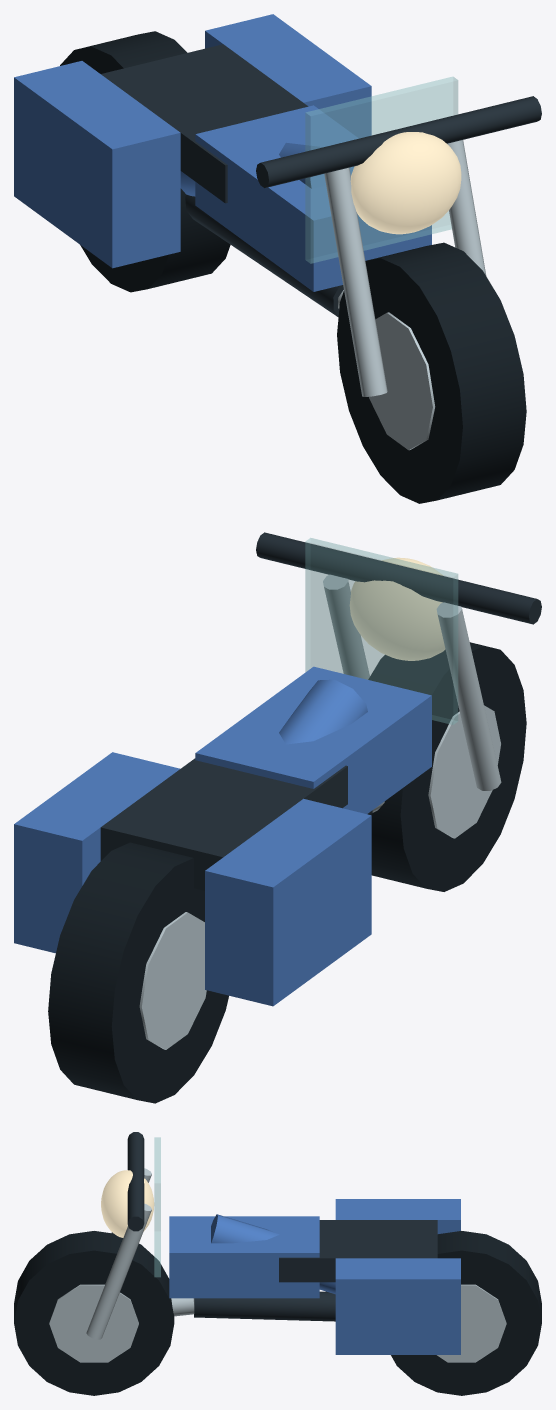
The model's file is touring-bike.glb.
The picture shows the model from 3 angles, top to bottom: view 1: azimuth 30°, elevation 25°; view 2: azimuth 150°, elevation 25°; view 3: azimuth 270°, elevation 25°; orthographic projection. The views are drawn at different scales.
Visible parts, largest first — view 1: touring-bike, wheel.1.spin, wheel.0.spin; view 2: touring-bike, wheel.0.spin, wheel.1.spin; view 3: touring-bike, wheel.1.spin, wheel.0.spin.
Boxes of the visible parts, x1,y1,x2,y2 form: touring-bike: [14, 14, 541, 396]; wheel.1.spin: [337, 242, 526, 503]; wheel.0.spin: [60, 31, 230, 292]; touring-bike: [14, 532, 541, 1006]; wheel.0.spin: [48, 842, 228, 1103]; wheel.1.spin: [368, 642, 526, 891]; touring-bike: [86, 1132, 460, 1354]; wheel.1.spin: [14, 1231, 174, 1395]; wheel.0.spin: [391, 1231, 541, 1395].
Size of the model in its own units: 1.2 by 1.49 by 3.16.
